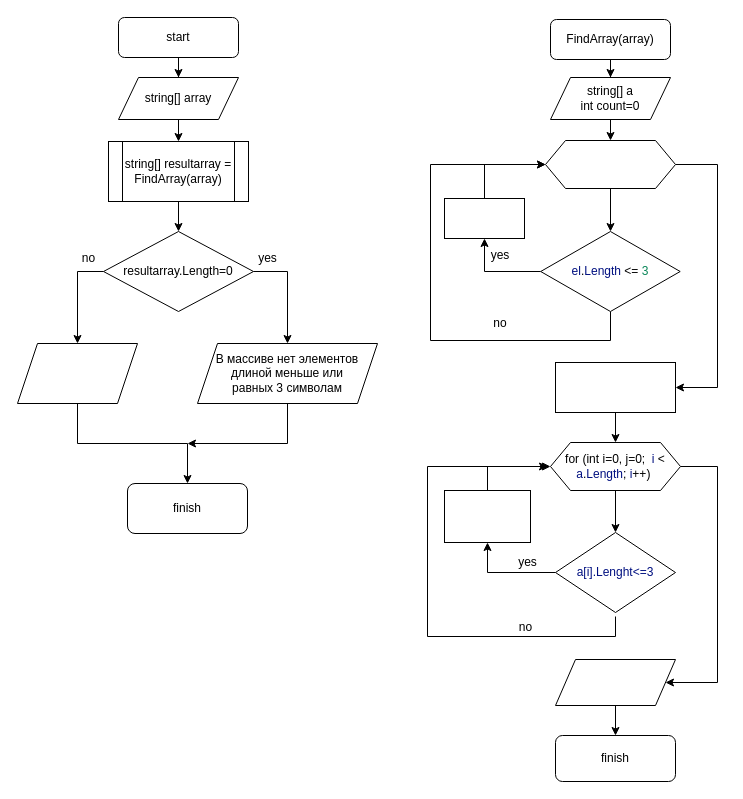
This 743x799 diagram has some shape labels left out. The shapes that lost their labels are listed below. From the top down, each one's box as (x1, y1, x2, y2) in pixels, then its label:
(544, 140, 676, 188): foreach (string el in a)
(444, 198, 524, 238): count++
(16, 342, 138, 404): resultarray
(554, 362, 676, 412): string[] a2 = new string[count]
(444, 490, 530, 542): a2[j] = a[i] j++
(554, 658, 676, 706): a2
